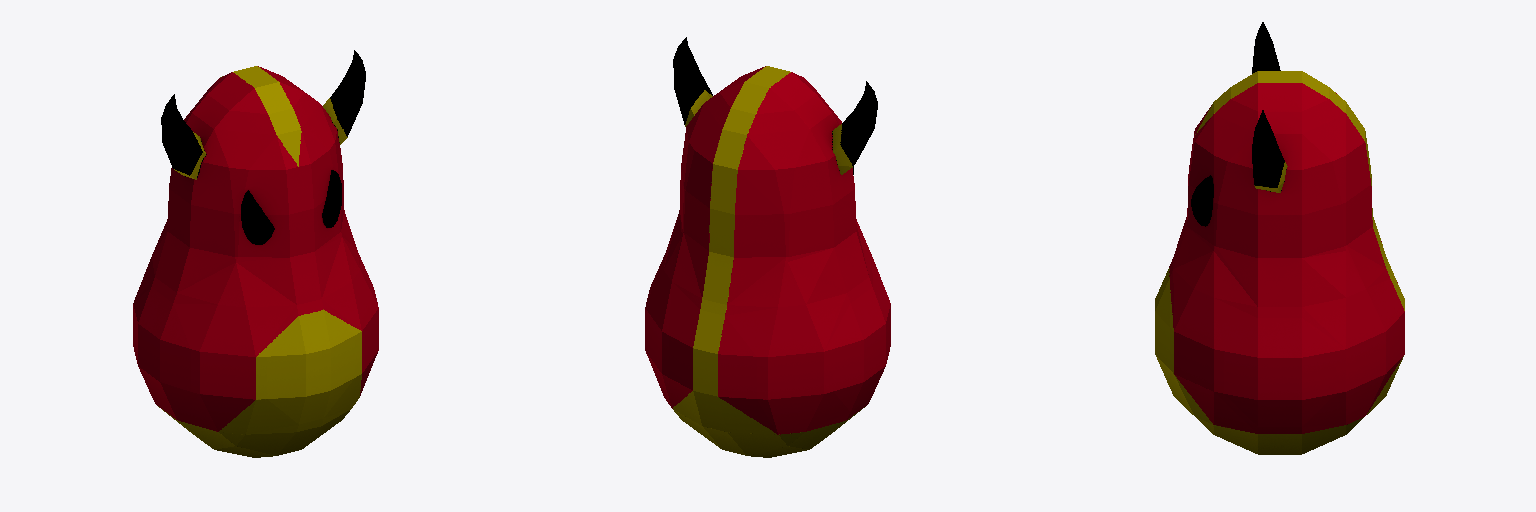
3 views of the same model, side by side, from view 1: azimuth 30°, elevation 25°; view 2: azimuth 150°, elevation 25°; view 3: azimuth 270°, elevation 25° (orthographic).
Visible parts, largest first — view 1: Mball.001_Mesh.010; view 2: Mball.001_Mesh.010; view 3: Mball.001_Mesh.010.
Part boxes in pixels (left/top/right/bottom): Mball.001_Mesh.010: left=133, top=50, right=378, bottom=457; Mball.001_Mesh.010: left=645, top=37, right=890, bottom=457; Mball.001_Mesh.010: left=1155, top=22, right=1404, bottom=454.
Size of the model in its own units: 13.2 by 22.52 by 13.36.
1 materials, 1 textured.